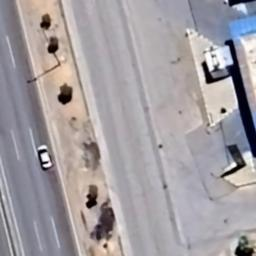sedan: (35, 142, 54, 172)
